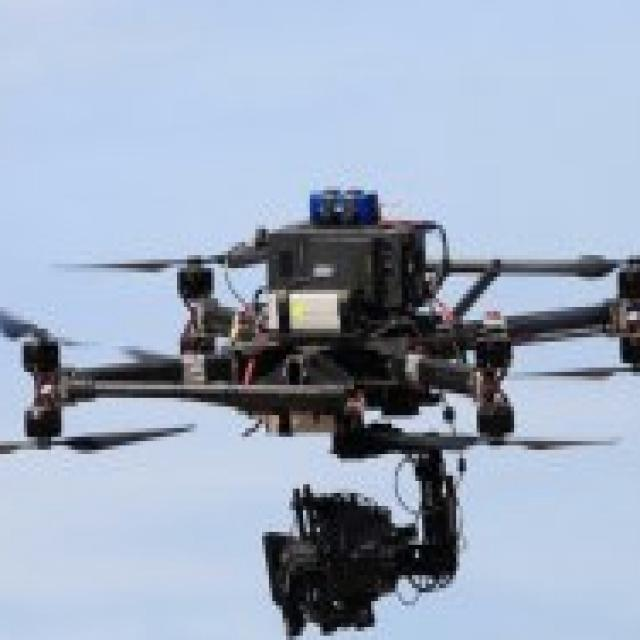drone: (0, 208, 640, 480)
